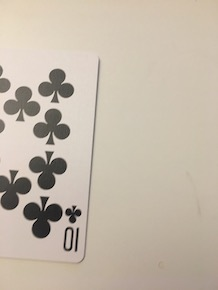TenOfClubs: (1, 44, 109, 268)
